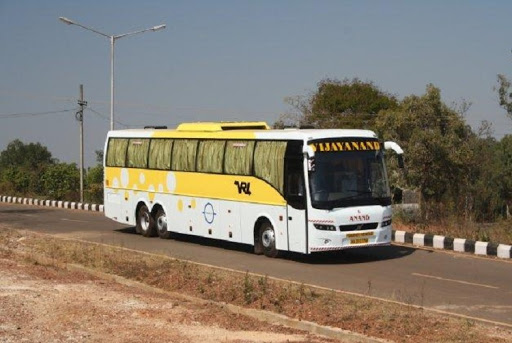bus: (99, 122, 408, 257)
